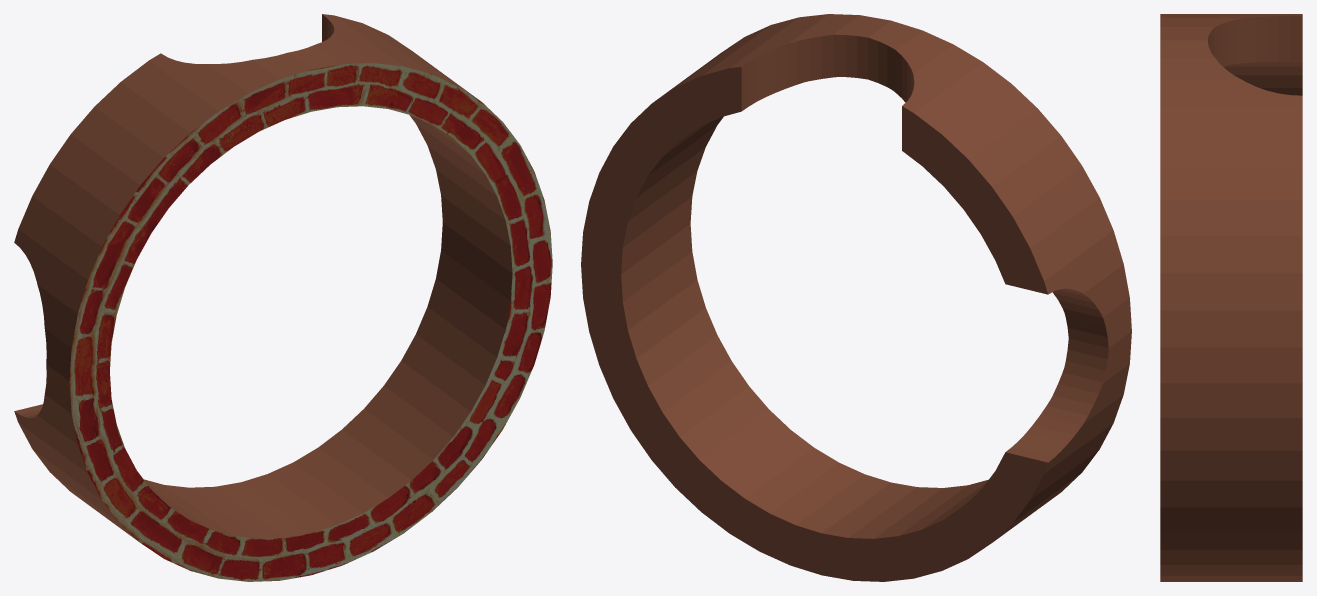
The model's file is pool_076.obj.
The picture shows the model from 3 angles, left to right: view 1: azimuth 30°, elevation 25°; view 2: azimuth 150°, elevation 25°; view 3: azimuth 270°, elevation 25°; orthographic projection. The views are drawn at different scales.
Size of the model in its own units: 12 by 12 by 3.
Materials: 1 (1 with a texture image).
